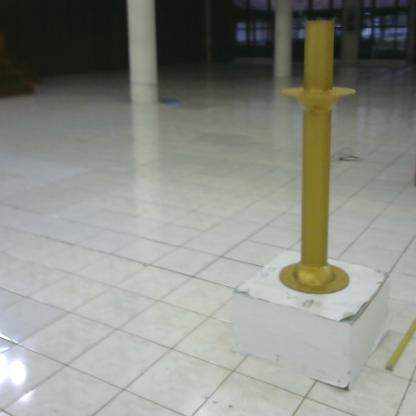pole: (275, 15, 367, 306)
